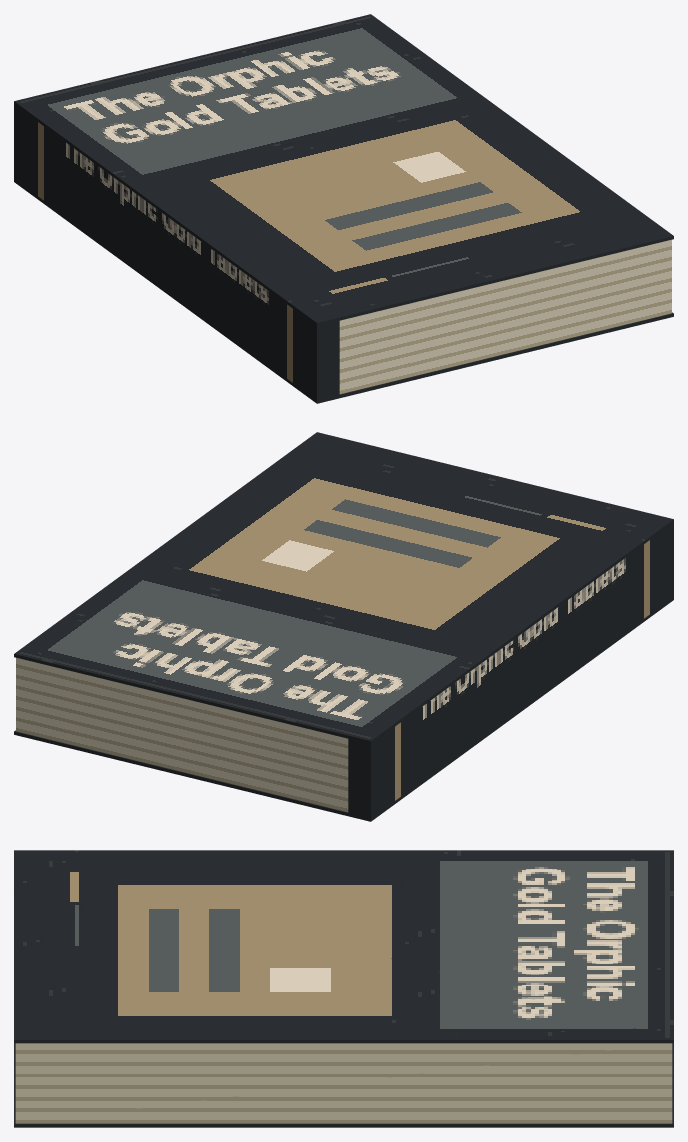
The model's file is holybook_golden.glb.
3 views of the same model, one above another, from view 1: azimuth 30°, elevation 25°; view 2: azimuth 150°, elevation 25°; view 3: azimuth 270°, elevation 25° (orthographic). The views are drawn at different scales.
Visible parts, largest first — view 1: block_front cover, block_page block, block_spine, block_back cover; view 2: block_front cover, block_page block, block_spine, block_back cover; view 3: block_front cover, block_page block, block_back cover.
Part boxes in pixels (bbox=[...]): block_front cover: bbox=[14, 14, 673, 325]; block_page block: bbox=[339, 239, 671, 394]; block_spine: bbox=[14, 104, 339, 400]; block_back cover: bbox=[14, 179, 673, 403]; block_front cover: bbox=[14, 432, 673, 743]; block_page block: bbox=[16, 657, 348, 812]; block_spine: bbox=[348, 522, 673, 818]; block_back cover: bbox=[14, 597, 673, 821]; block_front cover: bbox=[14, 850, 673, 1043]; block_page block: bbox=[15, 1043, 672, 1123]; block_back cover: bbox=[14, 1043, 673, 1127].
Size of the model in its own units: 0.1414 by 0.0306 by 0.208.
Materials: 1 (1 with a texture image).
